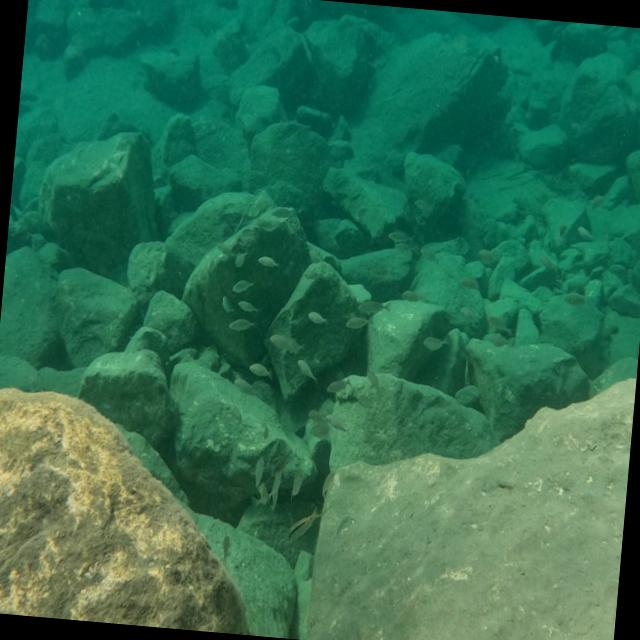Sokar Baligi: (282, 499, 326, 556), (418, 326, 453, 360), (268, 325, 306, 355)
